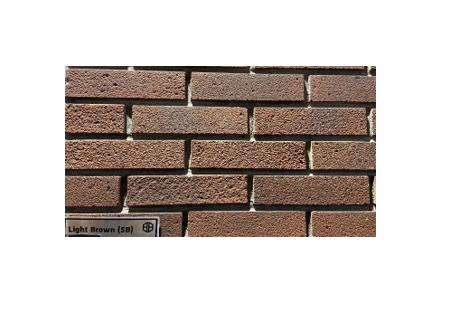Bricks: (65, 67, 184, 99), (131, 104, 247, 135), (67, 67, 186, 97), (261, 177, 369, 206), (66, 141, 184, 166), (255, 108, 365, 134), (195, 73, 303, 99), (66, 214, 182, 238), (197, 141, 305, 166), (187, 214, 308, 236), (131, 177, 248, 199), (310, 71, 375, 103), (313, 143, 375, 170), (67, 176, 119, 208), (65, 105, 124, 131), (317, 212, 378, 236)
